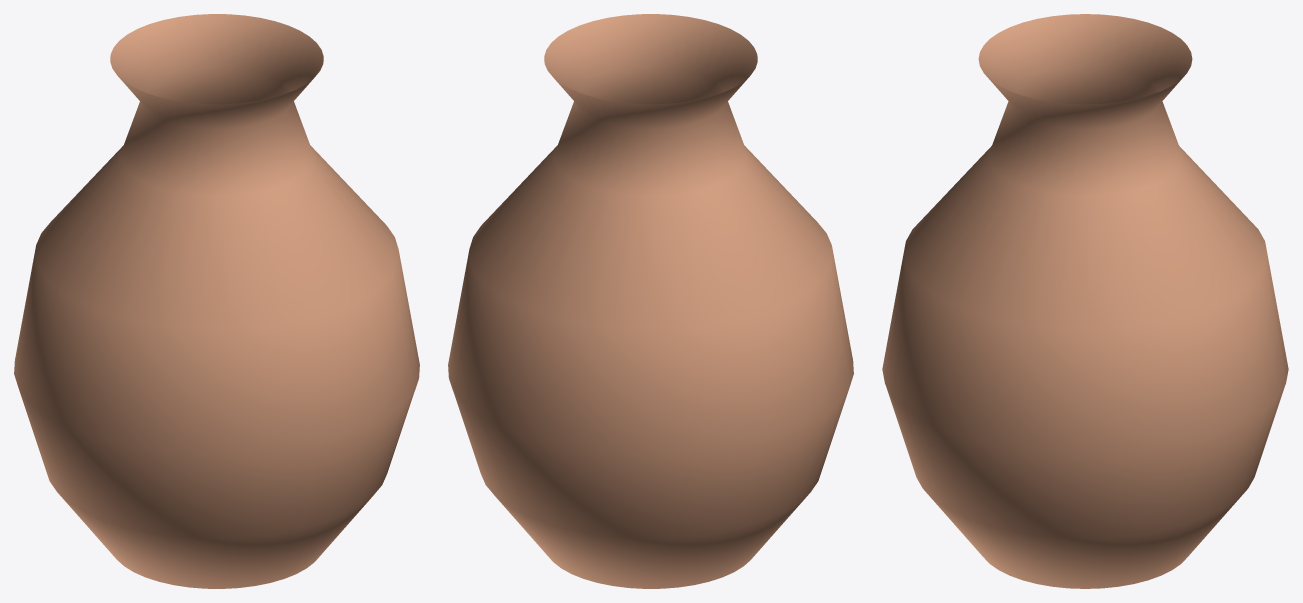
File: pieza-prueba-vasija.glb
3 views of the same model, side by side, from view 1: azimuth 30°, elevation 25°; view 2: azimuth 150°, elevation 25°; view 3: azimuth 270°, elevation 25° (orthographic).
Visible parts, largest first — view 1: vasija; view 2: vasija; view 3: vasija.
Boxes of the visible parts, x1=… form: vasija: x1=14, y1=14, x2=419, y2=588; vasija: x1=448, y1=14, x2=853, y2=588; vasija: x1=882, y1=14, x2=1288, y2=588.
Bounding box in the file's own units: 0.38 × 0.5 × 0.38.
